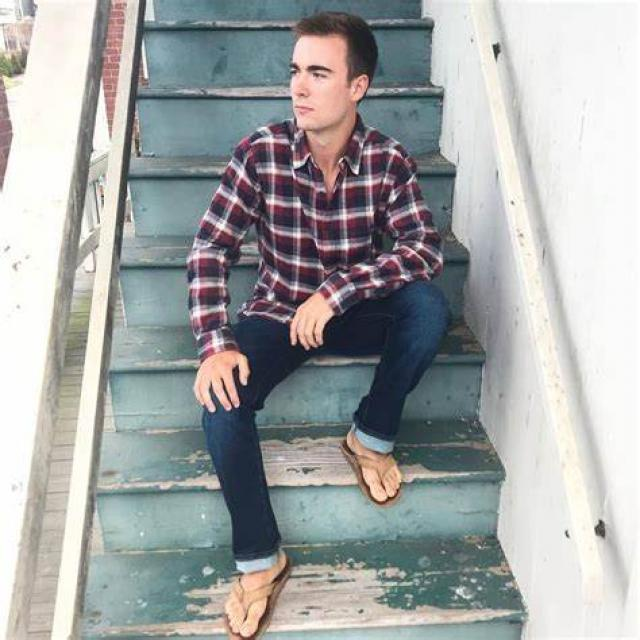No_BreathingApparatus: (282, 45, 350, 133), (286, 54, 345, 100)
No_Glove: (288, 284, 340, 354)
No_Goggles: (287, 59, 340, 82)
No_Harness: (209, 127, 453, 320)
No_Helmet: (279, 4, 375, 55)
No_Shoe: (222, 551, 300, 640), (337, 429, 410, 508)
Person: (199, 22, 460, 531)
